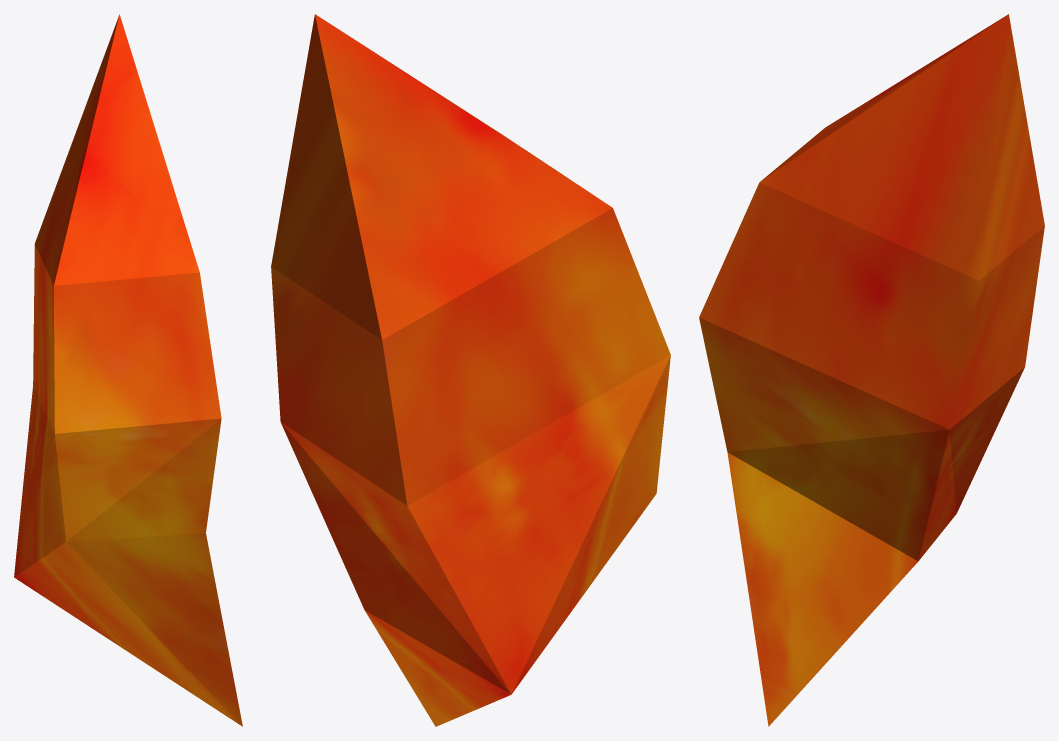
The model's file is Island_2_Leaf_1.gltf.
3 renders of one model, left to right at view 1: azimuth 30°, elevation 25°; view 2: azimuth 150°, elevation 25°; view 3: azimuth 270°, elevation 25°, orthographic. The views are drawn at different scales.
Visible parts, largest first — view 1: Island_2_Leaf_1; view 2: Island_2_Leaf_1; view 3: Island_2_Leaf_1.
Boxes of the visible parts, box(x1,y1,x2,y2) form: Island_2_Leaf_1: box(14, 14, 242, 726); Island_2_Leaf_1: box(271, 14, 670, 726); Island_2_Leaf_1: box(699, 14, 1044, 726).
Bounding box in the file's own units: 0.4379 × 1.19 × 0.5289.
Materials: 1 (1 with a texture image).
